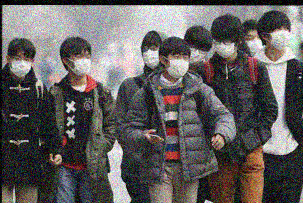with_mask: (67, 51, 92, 77), (268, 25, 292, 52), (165, 53, 188, 79), (210, 37, 237, 59), (9, 53, 32, 77), (140, 42, 161, 68), (244, 31, 264, 56), (185, 44, 207, 65)
